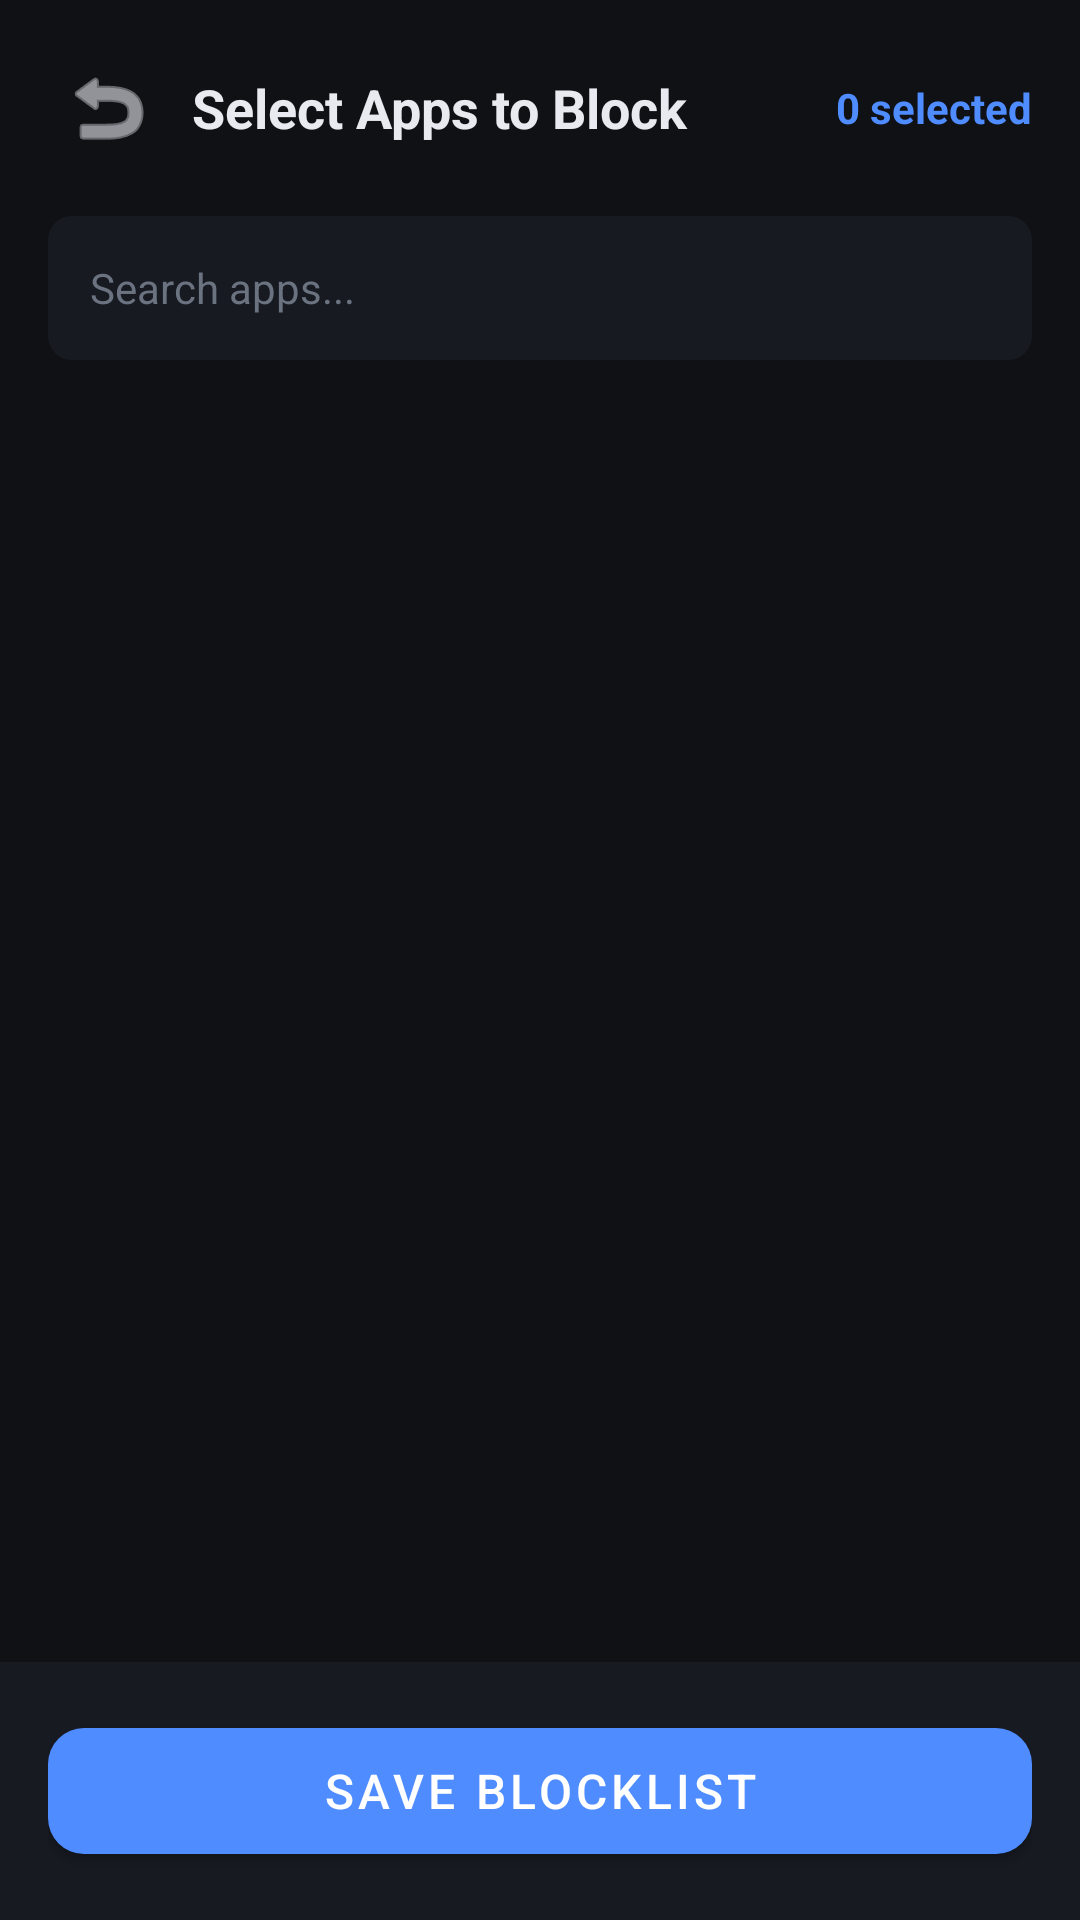

Named icons in this screenshot (1080px×1920px) and their centers, [x,y]:
Back: [109,108]
